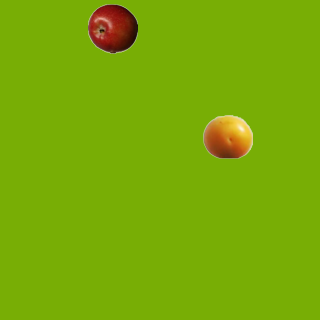Apple Braeburn: (87, 3, 137, 53)
Cherry Wax Yellow: (202, 111, 252, 161)
